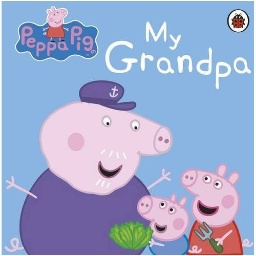Peppa: (180, 163, 254, 256)
